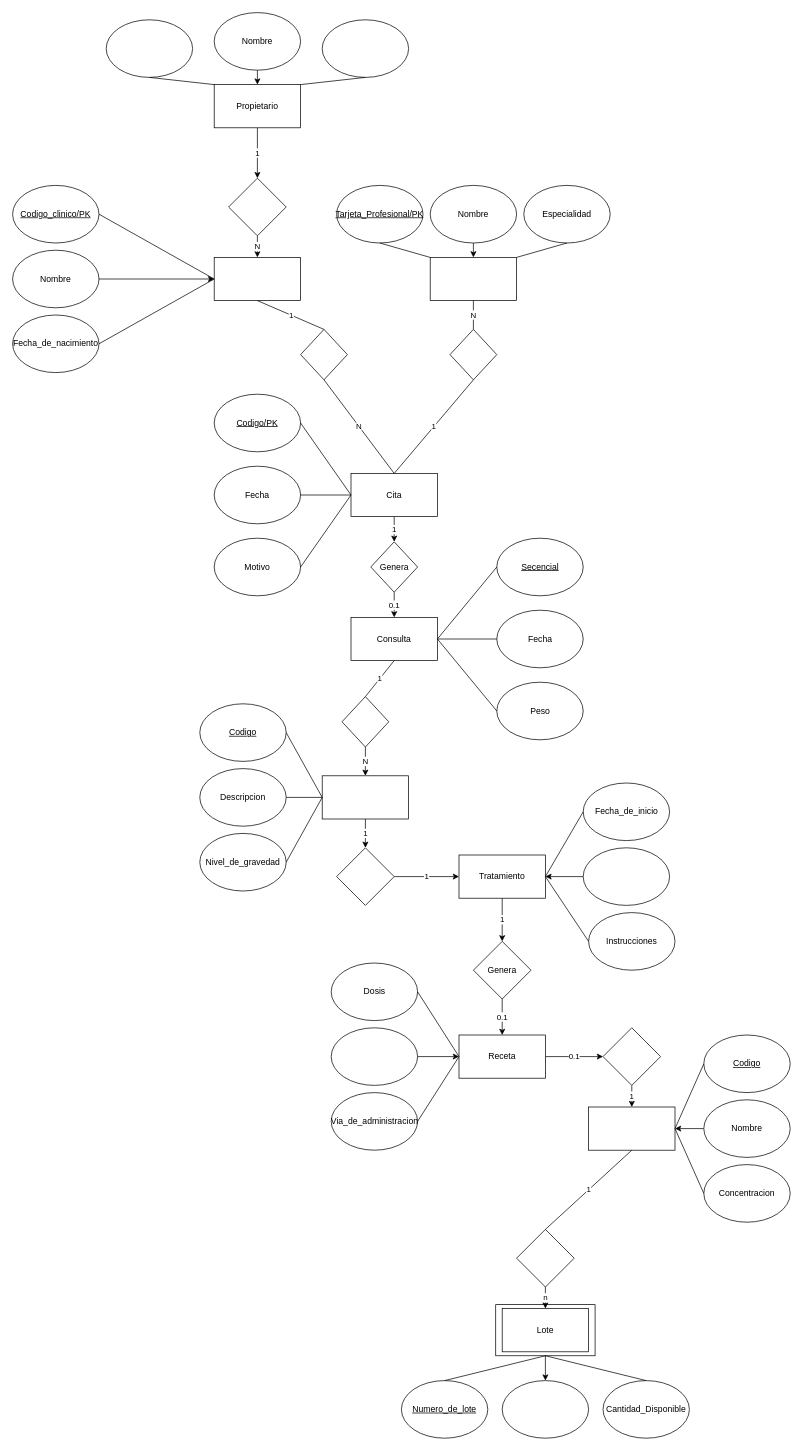
Image size: 803x1451. Some labels were removed from this diagram. Each missing label, with the centre of its shape:
"Agenda" goes at [323,354].
"Animal" goes at [257,279].
"Atiende" goes at [473,354].
"Diagnostico" goes at [365,797].
"Documento(PK)" goes at [149,48].
"Duracion" goes at [626,876].
"Fecha_de_Vencimiento" goes at [545,1409].
"Frecuencia" goes at [374,1056].
"Identifica" goes at [545,1258].
"Medicamento" goes at [631,1128].
"Origina" goes at [365,876].
"Presenta" goes at [365,721].
"Referencia" goes at [631,1056].
"Telefono" goes at [365,48].
"Tiene" goes at [257,206].
"Veterinario" goes at [473,279].
